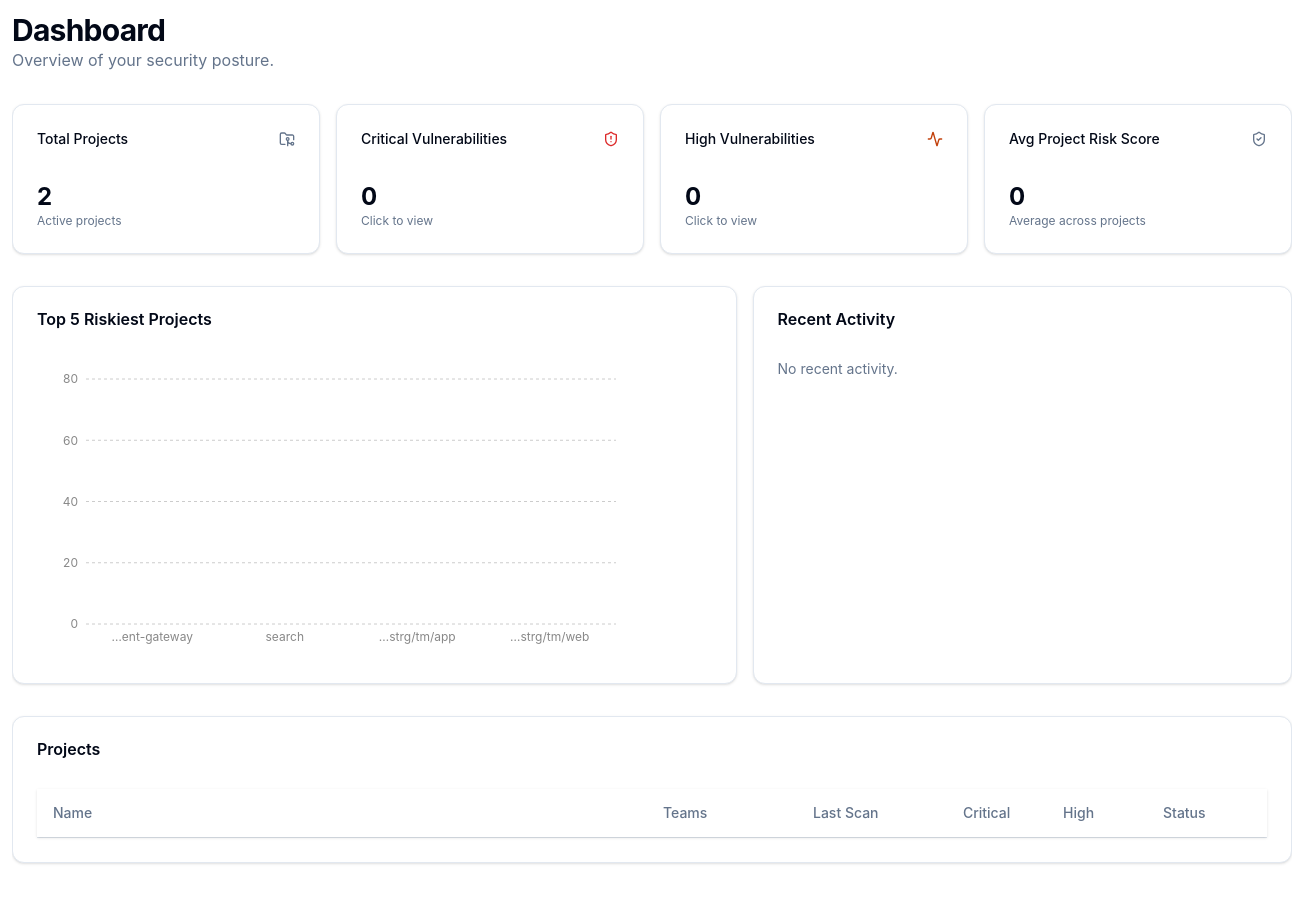
Test: Dashboard riskiest projects chart › shortens a long project name under its bar and names it in full in the tooltip
Expected: the text "search" is shown, [266,628,304,644]
Expected: the text "…ent-gateway" is shown, [112,628,193,644]
Focus the element with class "recharts-wrapper" at (321, 509), box [21,359,621,659]
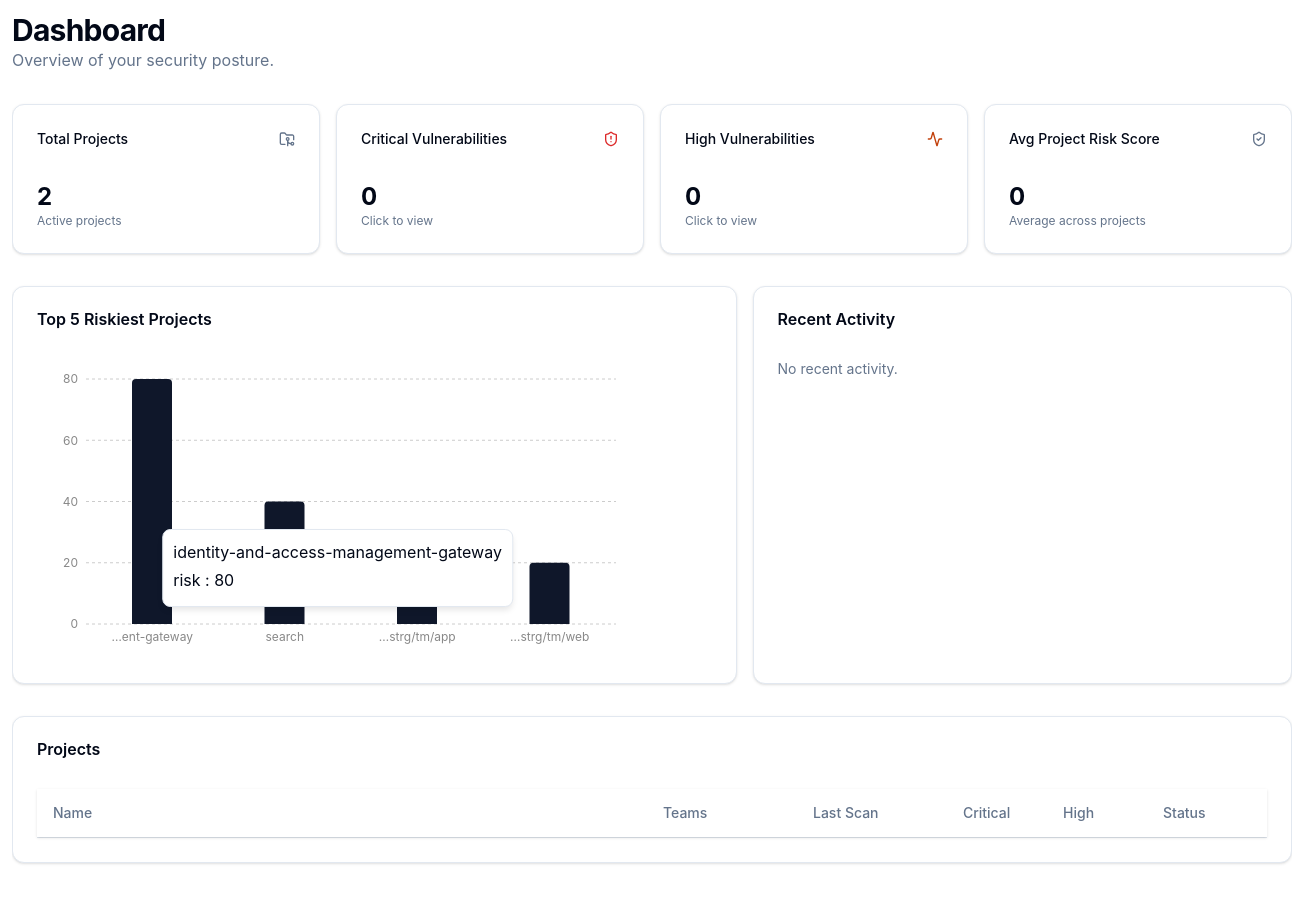
Expected: the text "identity-and-access-management-gateway" is shown, [173,540,502,564]
